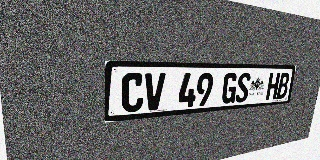4: (178, 73, 198, 108)
9: (195, 73, 214, 106)
B: (276, 73, 290, 99)
C: (121, 73, 144, 113)
G: (221, 73, 238, 104)
H: (265, 73, 280, 100)
S: (235, 73, 251, 103)
V: (143, 73, 166, 111)
